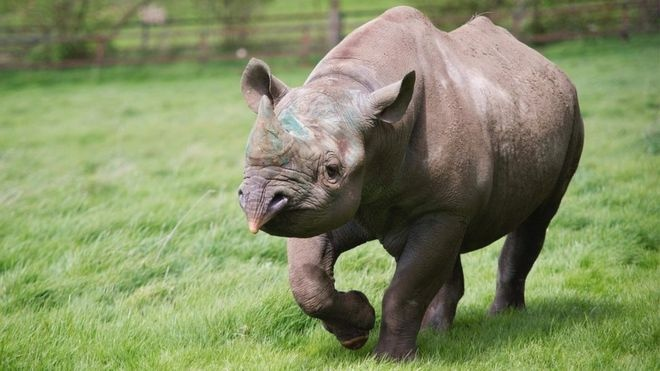rhino: (235, 5, 585, 365)
